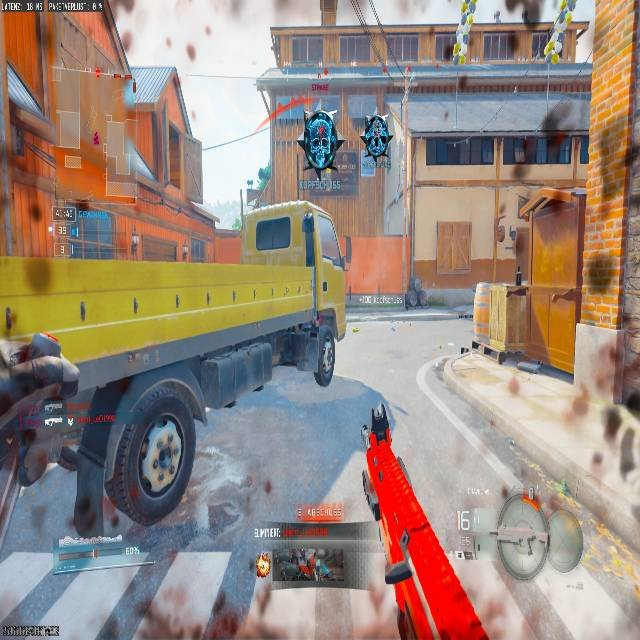player: (361, 113, 390, 163)
